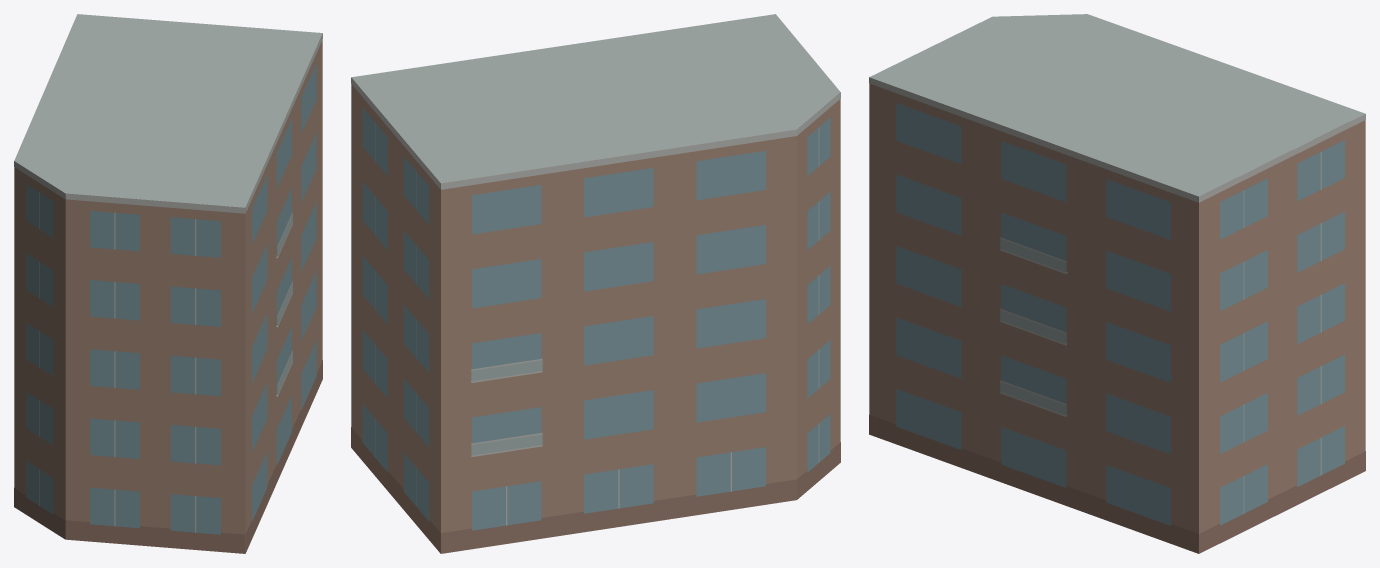
The model's file is survey-upis-33037467.glb.
The picture shows the model from 3 angles, left to right: view 1: azimuth 30°, elevation 25°; view 2: azimuth 150°, elevation 25°; view 3: azimuth 270°, elevation 25°; orthographic projection. The views are drawn at different scales.
Visible parts, largest first — view 1: survey-upis-33037467.tmp; view 2: survey-upis-33037467.tmp; view 3: survey-upis-33037467.tmp.
Part boxes in pixels (box(x1,y1,x2,y2)): survey-upis-33037467.tmp: box(14, 14, 322, 553); survey-upis-33037467.tmp: box(351, 14, 840, 553); survey-upis-33037467.tmp: box(869, 14, 1365, 553).
Bounding box in the file's own units: 15.57 × 14.2 × 17.89.
